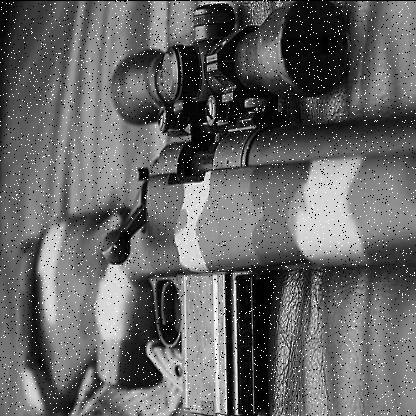rifle: (10, 4, 415, 416)
